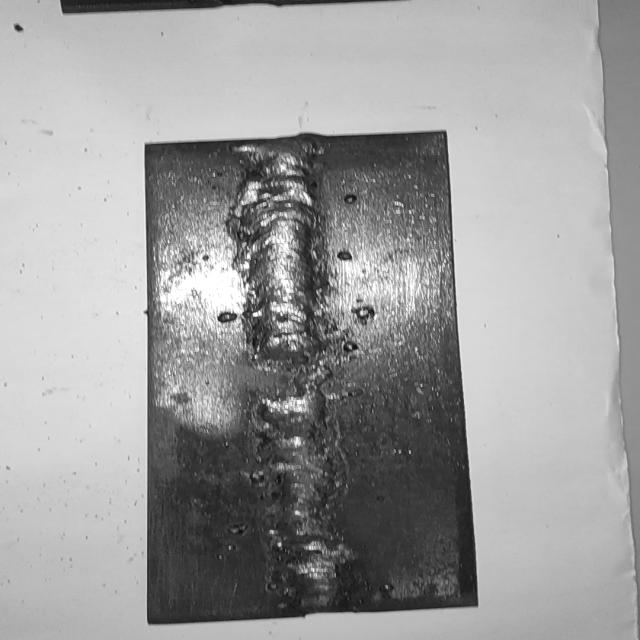Bad Weld: (236, 139, 353, 607)
Defect: (232, 338, 360, 409)
